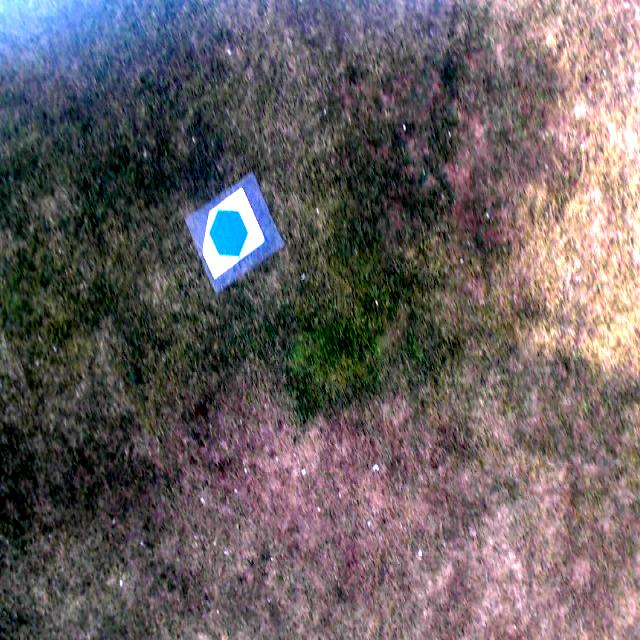blue_hexagon: (208, 208, 250, 259)
